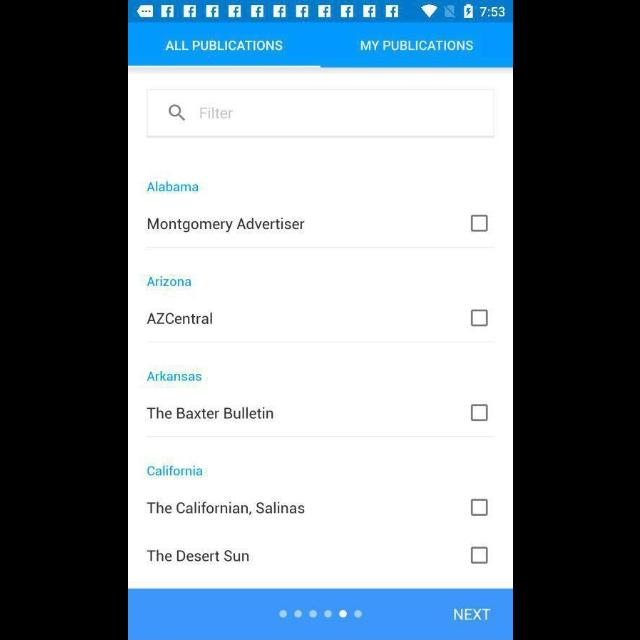checkbox: (470, 214, 488, 232), (470, 498, 488, 516), (470, 546, 488, 564), (470, 404, 488, 421), (471, 310, 487, 326)
icon: (168, 105, 185, 122)
input: (146, 89, 494, 138)
pageindicator: (278, 609, 362, 619)
text: (146, 500, 304, 516), (148, 218, 304, 232), (146, 406, 274, 419), (146, 548, 248, 562), (165, 40, 282, 51), (360, 40, 472, 51), (146, 312, 212, 326), (146, 370, 202, 382), (146, 465, 202, 477), (452, 608, 490, 622), (147, 275, 191, 287), (146, 182, 198, 192), (200, 107, 232, 119)
uppertaskbar: (128, 1, 512, 23)
